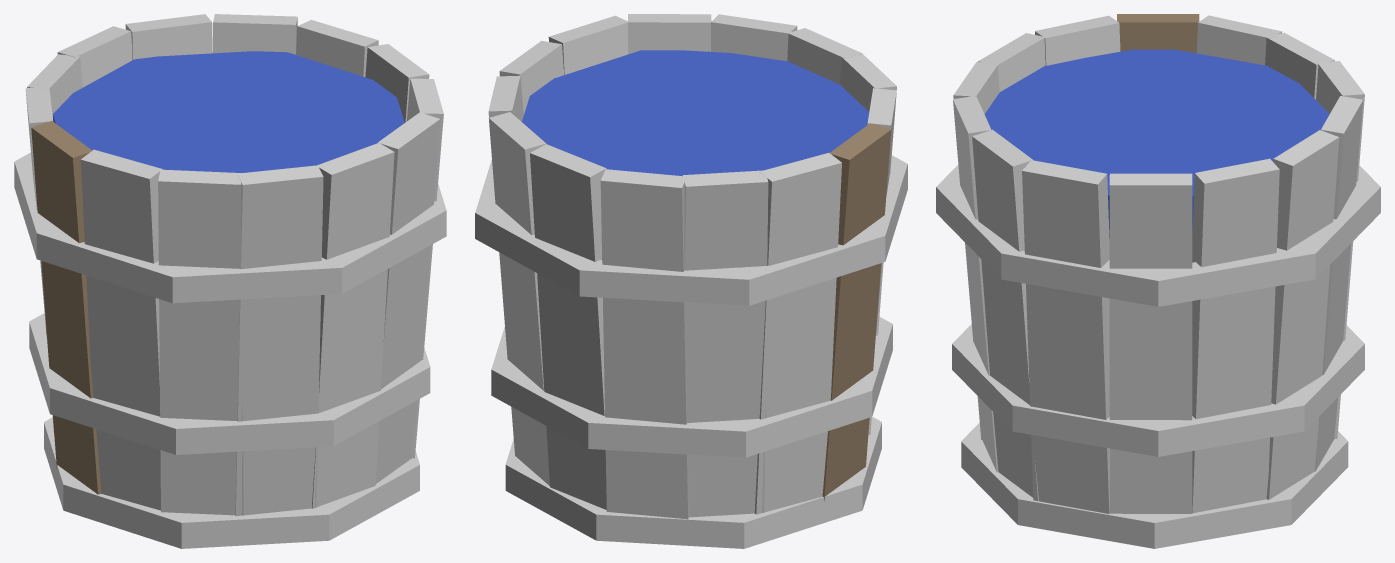
Rendered from Bucket.fbx.
3 views of the same model, side by side, from view 1: azimuth 30°, elevation 25°; view 2: azimuth 150°, elevation 25°; view 3: azimuth 270°, elevation 25° (orthographic).
Parts seen in each view (by area): view 1: Cylinder.002, Cube.011, Cube.012, Cube.013, Cube.010, Cylinder.003, Cylinder.001, Cylinder, Cube, Cube.009, Cube.005, Cube.004 (+6 smaller); view 2: Cylinder.002, Cube.003, Cube.002, Cube.001, Cube.004, Cylinder.003, Cylinder.001, Cube, Cylinder, Cube.005, Cube.009, Cube.010 (+6 smaller); view 3: Cylinder.002, Cube.008, Cube.007, Cube.006, Cylinder.003, Cylinder.001, Cube.005, Cylinder, Cube.009, Cube.004, Cube.010, Cube (+6 smaller).
Boxes of the visible parts, x1=… form: Cylinder.002: x1=53, y1=51, x2=404, y2=172; Cube.011: x1=235, y1=165, x2=323, y2=516; Cube.012: x1=158, y1=169, x2=243, y2=515; Cube.013: x1=80, y1=149, x2=162, y2=510; Cube.010: x1=312, y1=143, x2=394, y2=508; Cylinder.003: x1=14, y1=152, x2=446, y2=303; Cylinder.001: x1=29, y1=313, x2=430, y2=454; Cylinder: x1=44, y1=417, x2=419, y2=548; Cube: x1=31, y1=121, x2=101, y2=494; Cube.009: x1=375, y1=112, x2=440, y2=483; Cube.005: x1=213, y1=14, x2=297, y2=54; Cube.004: x1=125, y1=14, x2=212, y2=60; Cylinder.002: x1=522, y1=50, x2=869, y2=175; Cube.003: x1=600, y1=169, x2=688, y2=519; Cube.002: x1=682, y1=170, x2=768, y2=517; Cube.001: x1=754, y1=153, x2=841, y2=514; Cube.004: x1=530, y1=144, x2=606, y2=509; Cylinder.003: x1=475, y1=155, x2=907, y2=305; Cylinder.001: x1=491, y1=316, x2=892, y2=457; Cube: x1=822, y1=123, x2=891, y2=501; Cylinder: x1=505, y1=417, x2=881, y2=548; Cube.005: x1=488, y1=112, x2=549, y2=485; Cube.009: x1=628, y1=14, x2=711, y2=54; Cube.010: x1=711, y1=14, x2=797, y2=61; Cylinder.002: x1=984, y1=49, x2=1329, y2=238; Cube.008: x1=1022, y1=160, x2=1109, y2=513; Cube.007: x1=1109, y1=173, x2=1192, y2=513; Cube.006: x1=1192, y1=158, x2=1279, y2=513; Cylinder.003: x1=936, y1=165, x2=1380, y2=306; Cylinder.001: x1=952, y1=324, x2=1364, y2=456; Cube.005: x1=1266, y1=130, x2=1339, y2=499; Cylinder: x1=961, y1=423, x2=1348, y2=548; Cube.009: x1=972, y1=129, x2=1038, y2=501; Cube.004: x1=1314, y1=96, x2=1363, y2=471; Cube.010: x1=953, y1=95, x2=998, y2=472; Cube: x1=1117, y1=14, x2=1199, y2=53.
Size of the model in its own units: 224 by 205 by 224.
